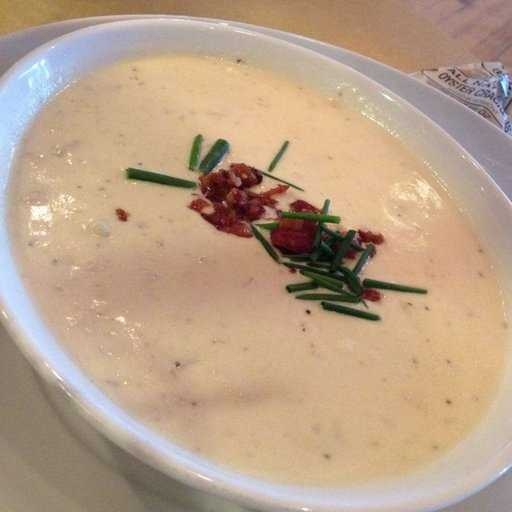soup: (2, 40, 509, 491)
